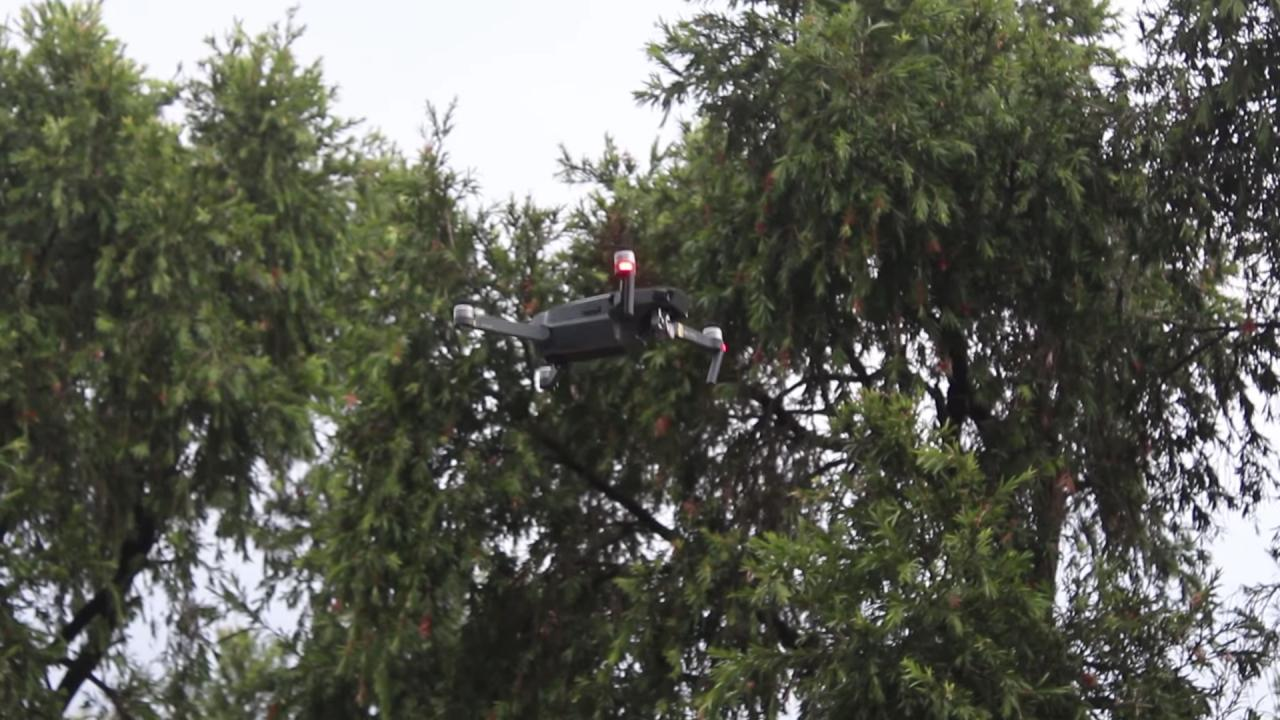Drone: (434, 238, 740, 404)
